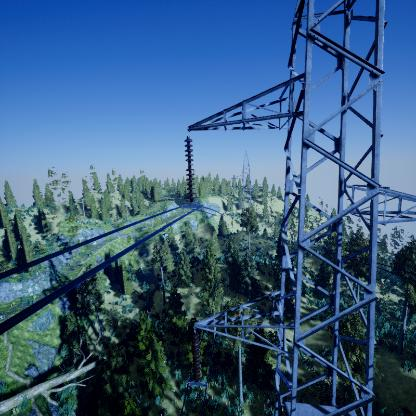insulator: (183, 137, 197, 202)
